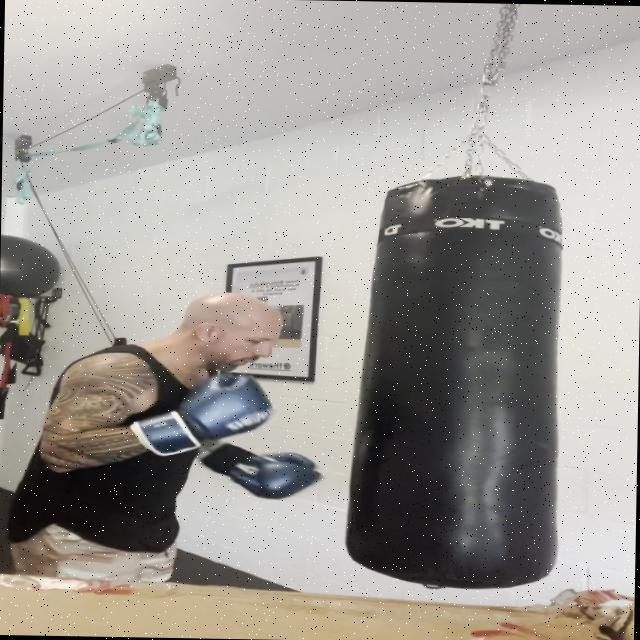bag: (342, 172, 572, 586)
uppercut: (32, 292, 343, 506)
